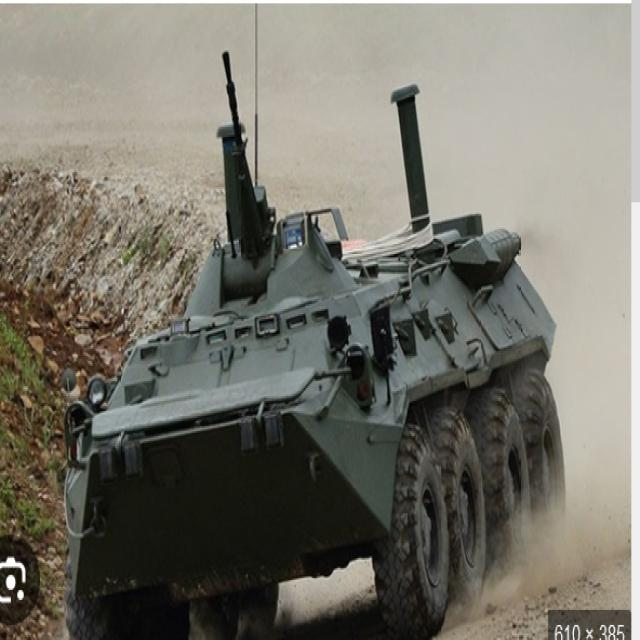MIL_APC: (63, 212, 584, 640)
